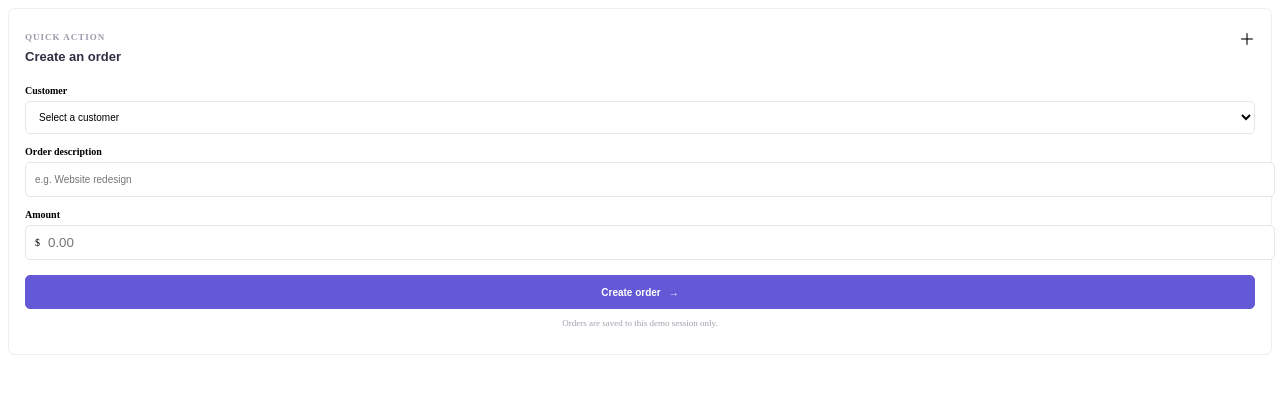
Test: OrderForm › reports success only after provider success
The image size is (1280, 419).
Select "Ada · Analytical" in the dropdown labelled "Customer": (640, 118) x1=25 y1=101 x2=1255 y2=134
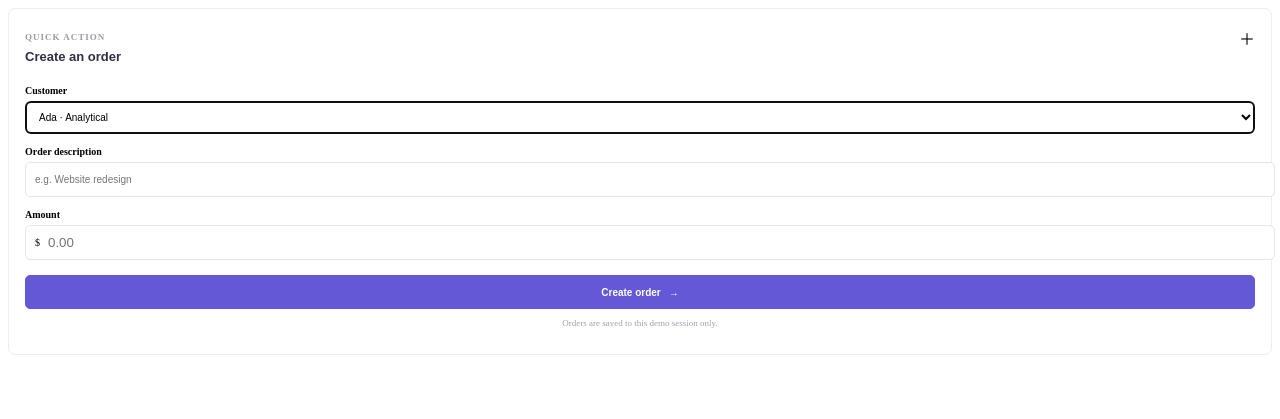
In the field labelled "Order description": (650, 180) x1=25 y1=162 x2=1275 y2=197, type "Consulting"
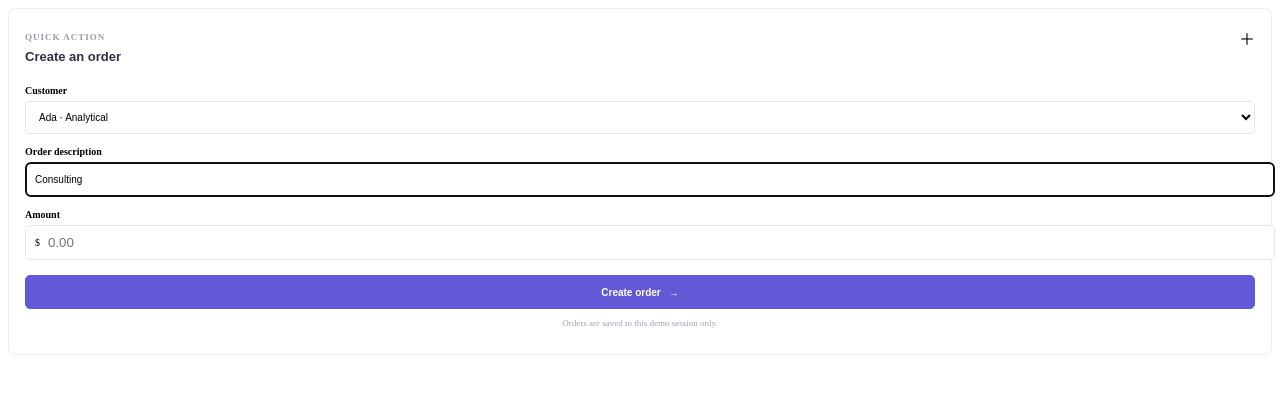
In the field labelled "Amount": (656, 242) x1=46 y1=234 x2=1265 y2=251, type "50"
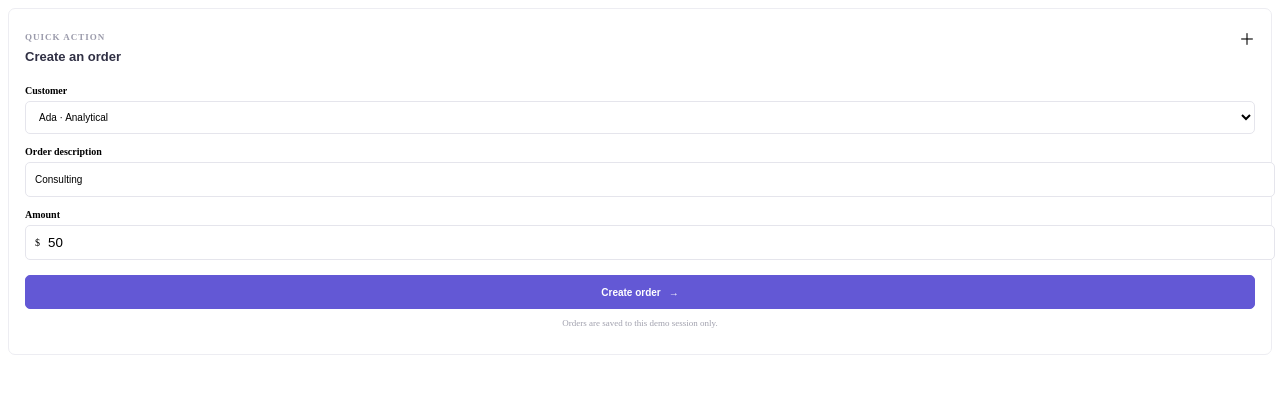
Click the button "Create order →": (640, 292) x1=25 y1=275 x2=1255 y2=309
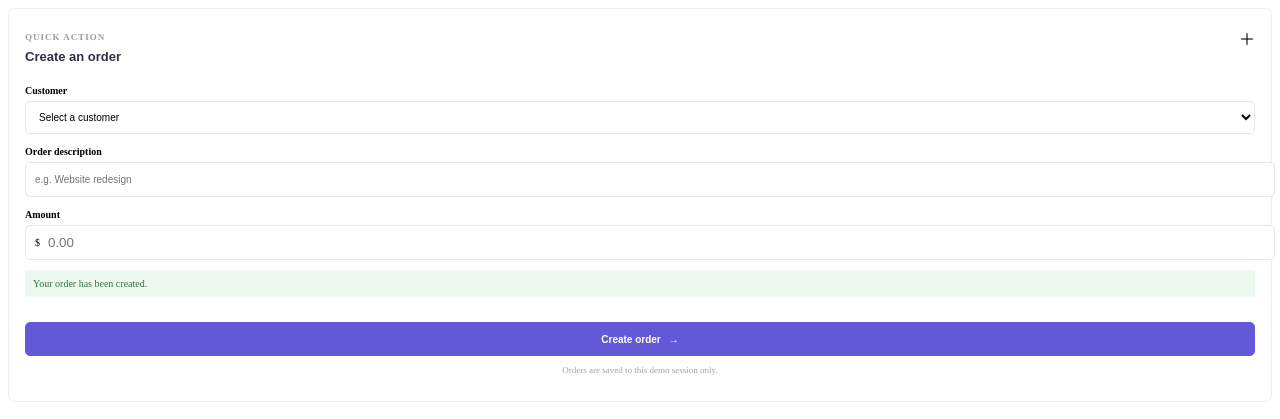
Now the text "Your order has been created." is shown, box x1=25 y1=270 x2=1255 y2=297
